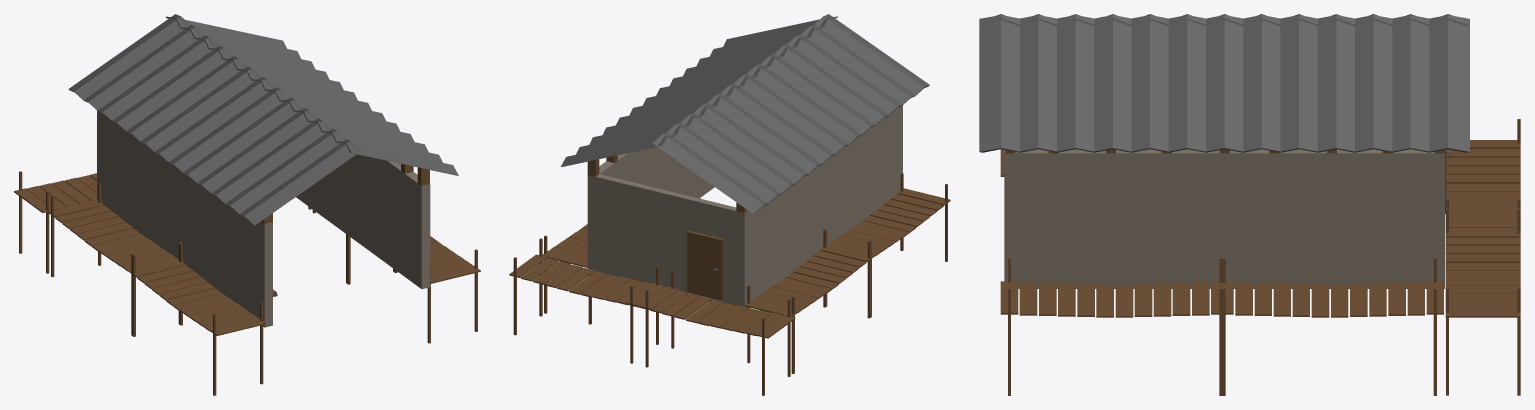
The model's file is BoatHouse.fbx.
The picture shows the model from 3 angles, left to right: view 1: azimuth 30°, elevation 25°; view 2: azimuth 150°, elevation 25°; view 3: azimuth 270°, elevation 25°; orthographic projection. The views are drawn at different scales.
Parts seen in each view (by area): view 1: BoutHouaseRoof, BoatHouse, Pier; view 2: BoutHouaseRoof, BoatHouse, Pier, PierDoor; view 3: BoutHouaseRoof, BoatHouse, Pier.
Part boxes in pixels (left/top/right/bottom): BoutHouaseRoof: left=68, top=14, right=458, bottom=225; BoatHouse: left=97, top=110, right=430, bottom=327; Pier: left=14, top=171, right=480, bottom=395; BoutHouaseRoof: left=561, top=14, right=929, bottom=214; BoatHouse: left=587, top=105, right=902, bottom=307; Pier: left=509, top=173, right=950, bottom=395; PierDoor: left=687, top=231, right=723, bottom=300; BoutHouaseRoof: left=979, top=14, right=1469, bottom=152; BoatHouse: left=1004, top=149, right=1444, bottom=288; Pier: left=1000, top=119, right=1520, bottom=395.
Bounding box in the file's own units: 29.09 × 22.74 × 37.87.
